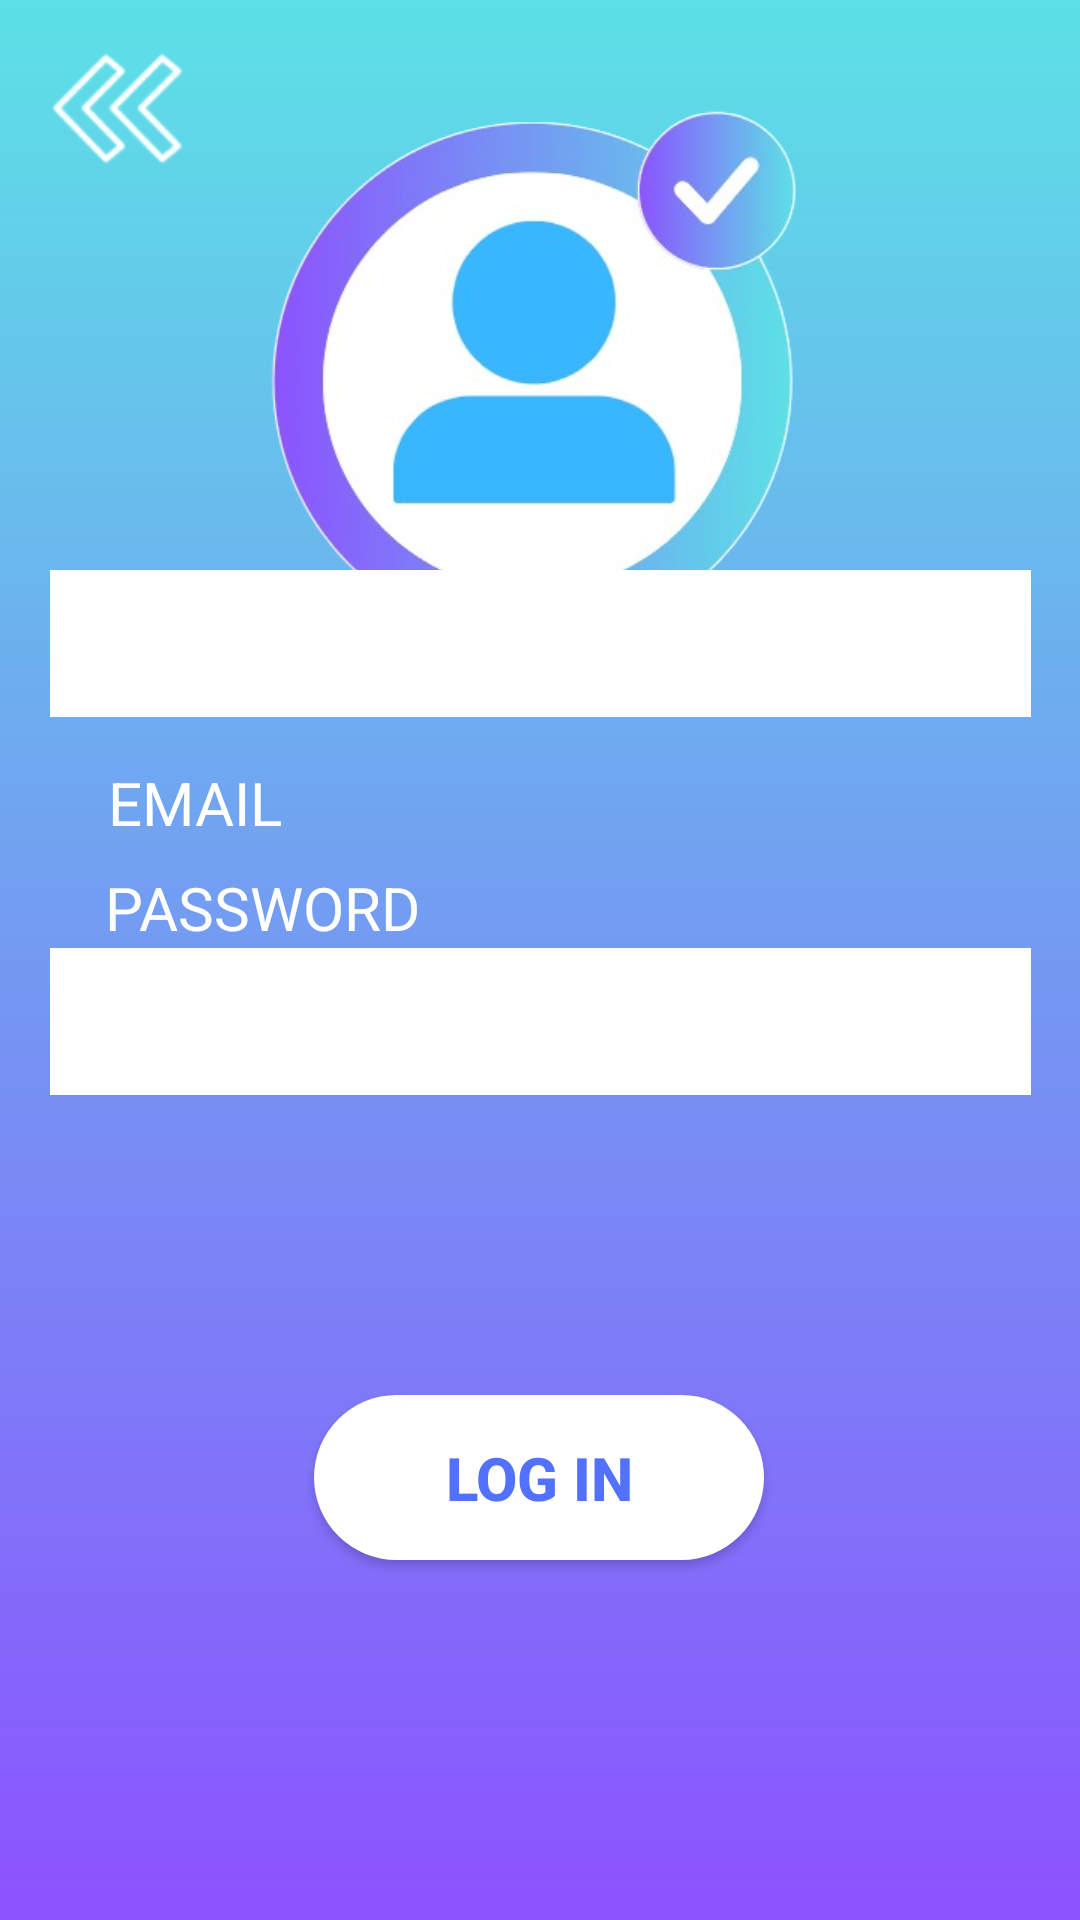

Screen size 1080*1920. Icon name, then its box in pixels as detection(x1, y1, x2, y2):
atmtbckbtn: detection(53, 54, 183, 163)
